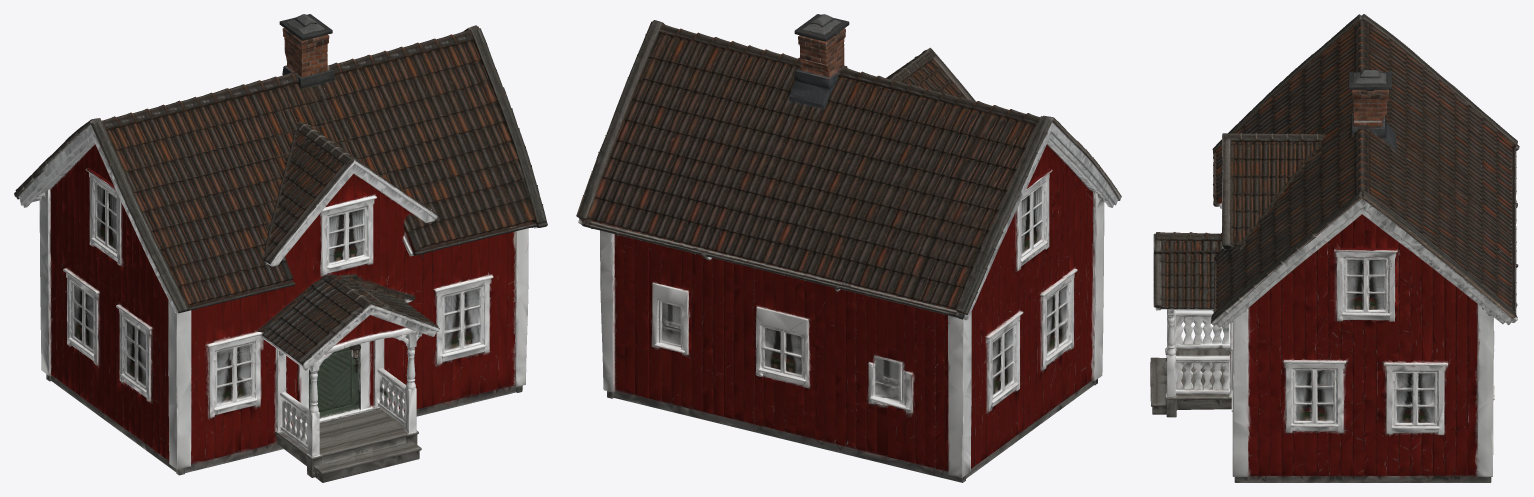
The model's file is czerwony_dom_skandynawski.glb.
3 views of the same model, side by side, from view 1: azimuth 30°, elevation 25°; view 2: azimuth 150°, elevation 25°; view 3: azimuth 270°, elevation 25° (orthographic). The views are drawn at different scales.
Parts seen in each view (by area): view 1: Mesh_0; view 2: Mesh_0; view 3: Mesh_0.
Boxes of the visible parts, x1,y1,x2,y2 form: Mesh_0: (14,14,547,482); Mesh_0: (576,14,1121,482); Mesh_0: (1150,14,1519,482).
Bounding box in the file's own units: 1.9 × 1.68 × 1.63.
Materials: 1 (1 with a texture image).
